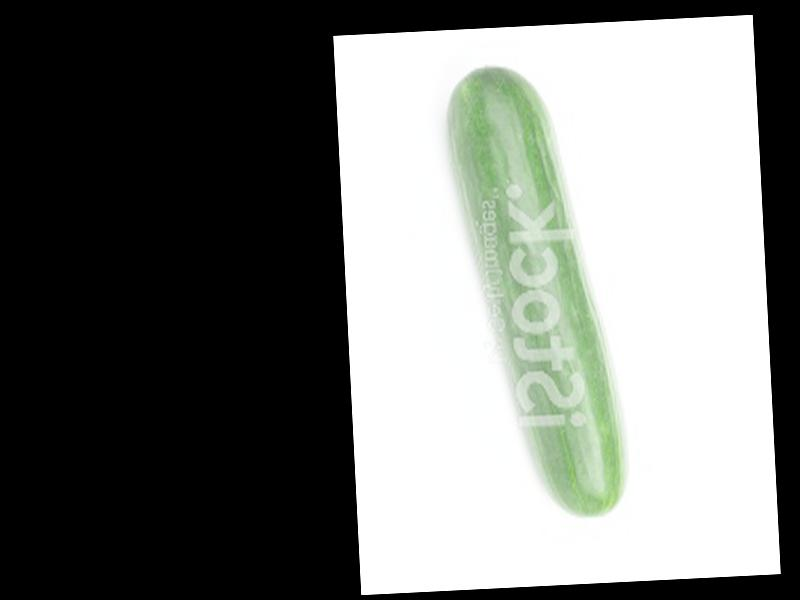Cucumber: (445, 58, 629, 525)
